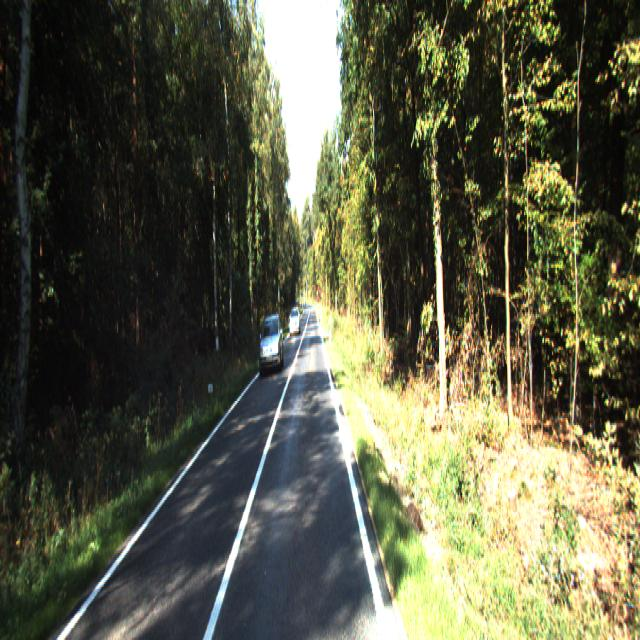Car: (256, 312, 284, 378), (289, 308, 301, 337)
